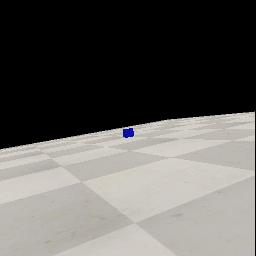box: (123, 128, 134, 138)
